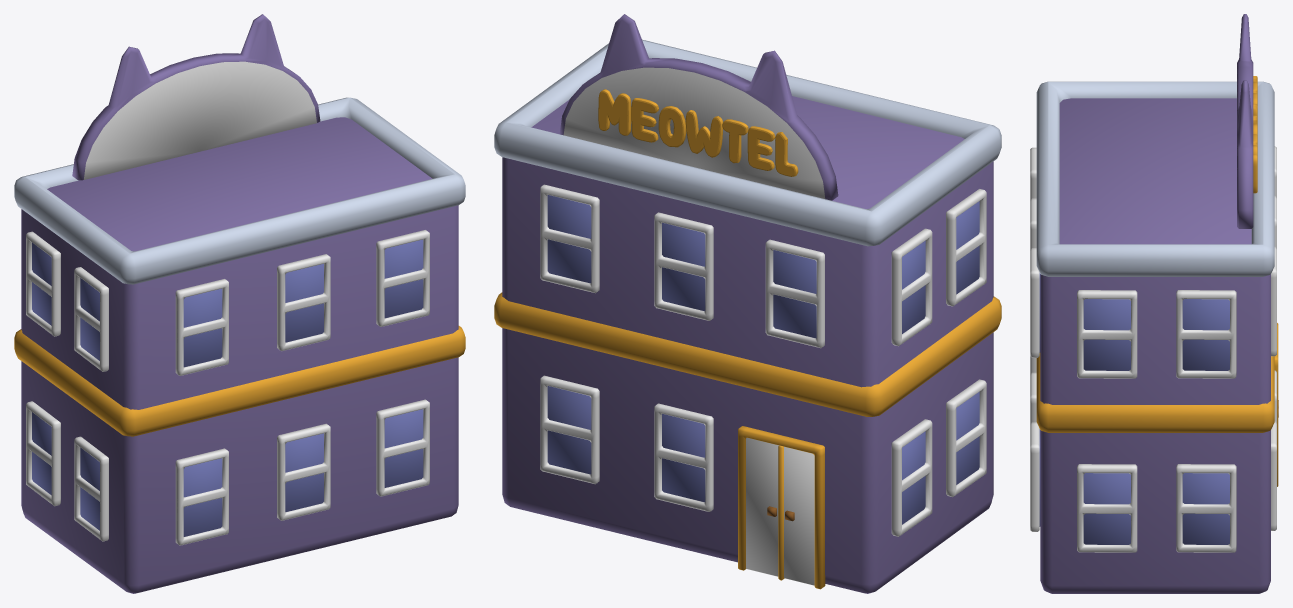
Rendered from Motel_with_Sign.fbx.
3 views of the same model, side by side, from view 1: azimuth 30°, elevation 25°; view 2: azimuth 150°, elevation 25°; view 3: azimuth 270°, elevation 25° (orthographic). The views are drawn at different scales.
Visible parts, largest first — view 1: Plane.260, Circle.004, Plane.261, Plane.286, Plane.818, Plane.296, Plane.292, Plane.814, Plane.816, Plane.298, Plane.294, Plane.819 (+12 smaller); view 2: Plane.260, Plane.261, Circle.004, Plane.286, Plane.280, Text.003, Plane.281, Plane.267, Plane.285, Plane.263, Plane.265, Plane.262 (+14 smaller); view 3: Plane.260, Plane.261, Plane.286, Circle.004, Plane.277, Plane.273, Plane.275, Plane.279, Plane.276, Plane.272, Plane.278, Plane.274 (+9 smaller).
Boxes of the visible parts, <box> form: Plane.260: <box>21,117,458,593</box>; Circle.004: <box>72,14,320,180</box>; Plane.261: <box>14,97,465,284</box>; Plane.286: <box>14,326,465,436</box>; Plane.818: <box>175,448,228,545</box>; Plane.296: <box>277,254,330,351</box>; Plane.292: <box>376,230,429,326</box>; Plane.814: <box>376,399,429,496</box>; Plane.816: <box>277,423,330,520</box>; Plane.298: <box>175,279,228,375</box>; Plane.294: <box>384,239,423,318</box>; Plane.819: <box>183,458,222,536</box>; Plane.260: <box>502,96,993,593</box>; Plane.261: <box>494,39,1001,246</box>; Circle.004: <box>559,14,838,200</box>; Plane.286: <box>494,292,1001,416</box>; Plane.280: <box>746,437,814,585</box>; Text.003: <box>598,89,798,176</box>; Plane.281: <box>738,426,825,589</box>; Plane.267: <box>547,195,591,283</box>; Plane.285: <box>547,386,591,474</box>; Plane.263: <box>773,250,816,338</box>; Plane.265: <box>662,223,705,311</box>; Plane.262: <box>765,239,824,348</box>; Plane.260: <box>1040,98,1270,593</box>; Plane.261: <box>1036,81,1274,276</box>; Plane.286: <box>1036,353,1274,432</box>; Circle.004: <box>1237,14,1253,228</box>; Plane.277: <box>1083,299,1130,370</box>; Plane.273: <box>1083,473,1130,544</box>; Plane.275: <box>1182,473,1229,544</box>; Plane.279: <box>1182,299,1229,370</box>; Plane.276: <box>1077,290,1137,378</box>; Plane.272: <box>1077,464,1137,552</box>; Plane.278: <box>1176,290,1236,378</box>; Plane.274: <box>1176,464,1236,552</box>.
Bounding box in the file's own units: 893 × 1111 × 535.
